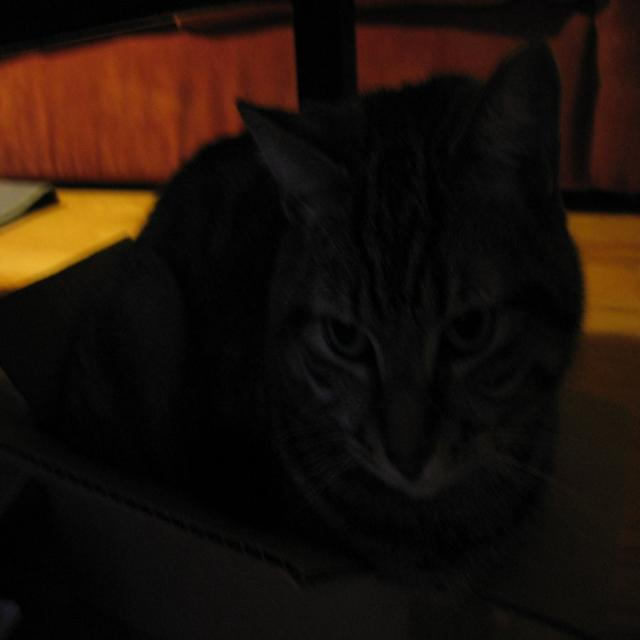Cat: (57, 29, 586, 579)
